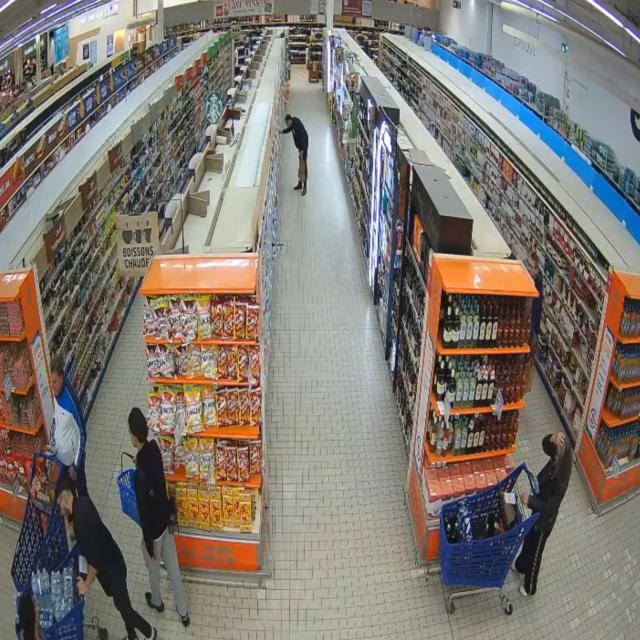bags: (524, 353, 535, 393), (168, 497, 177, 534), (298, 156, 305, 182)
hands: (551, 433, 565, 453), (77, 578, 89, 596), (145, 543, 154, 559), (520, 491, 529, 506), (69, 465, 77, 480)
person: (58, 477, 157, 639), (128, 408, 189, 626), (514, 433, 571, 595), (51, 357, 88, 495), (525, 251, 543, 392), (282, 115, 308, 195), (18, 592, 42, 639)
